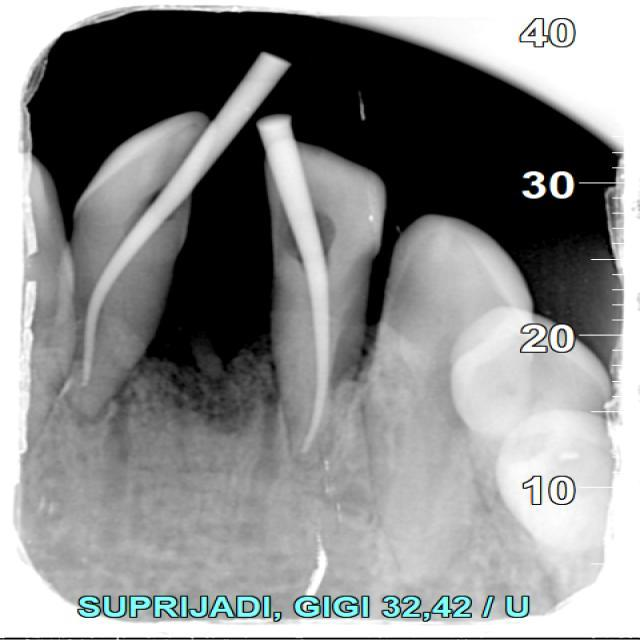individual-tooth-8tto: (359, 215, 541, 578), (52, 107, 209, 419), (274, 137, 394, 442)
